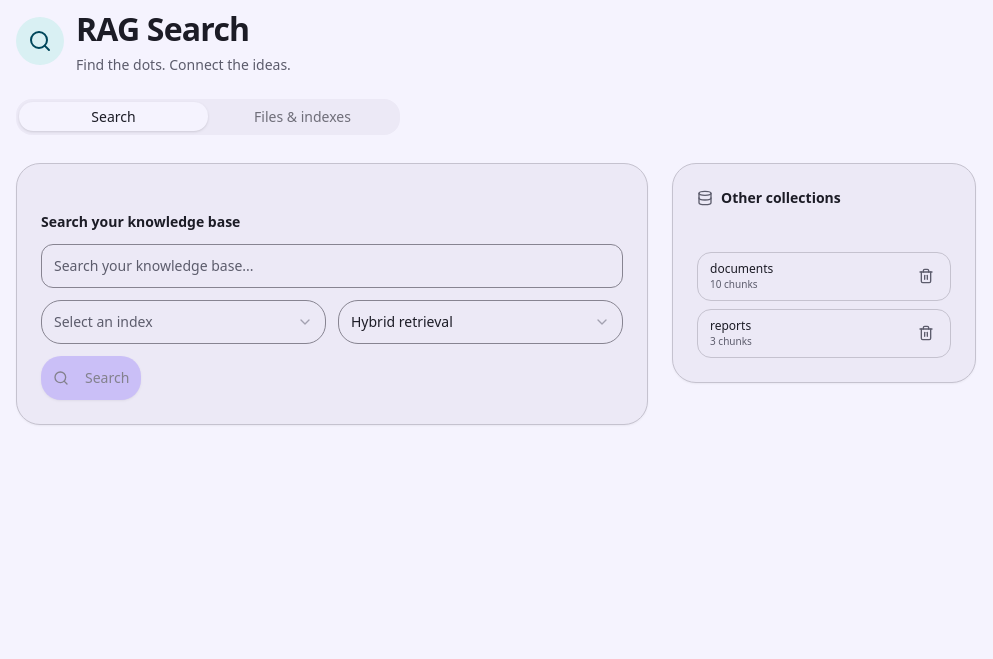
Scenario: RAG Page › uses the selected retrieval profile and labels RRF scores as rankings
Click the dropdown named "Search index": (103, 321) left=41, top=300, right=326, bottom=344
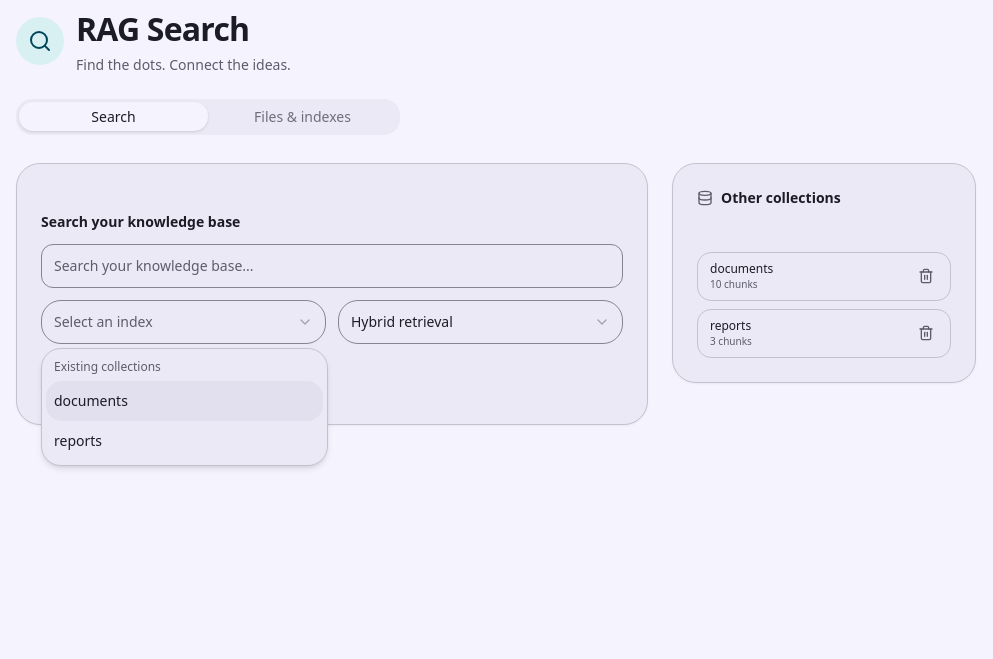
Click the option "documents": (91, 400) left=46, top=381, right=323, bottom=421
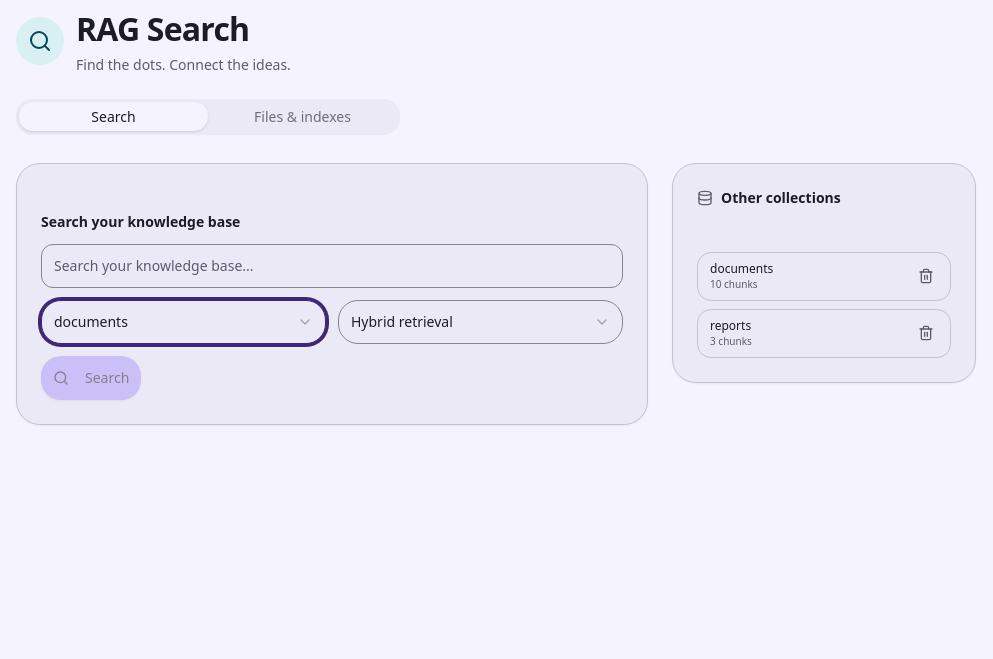
Click the dropdown named "Retrieval profile": (402, 321) left=338, top=300, right=623, bottom=344
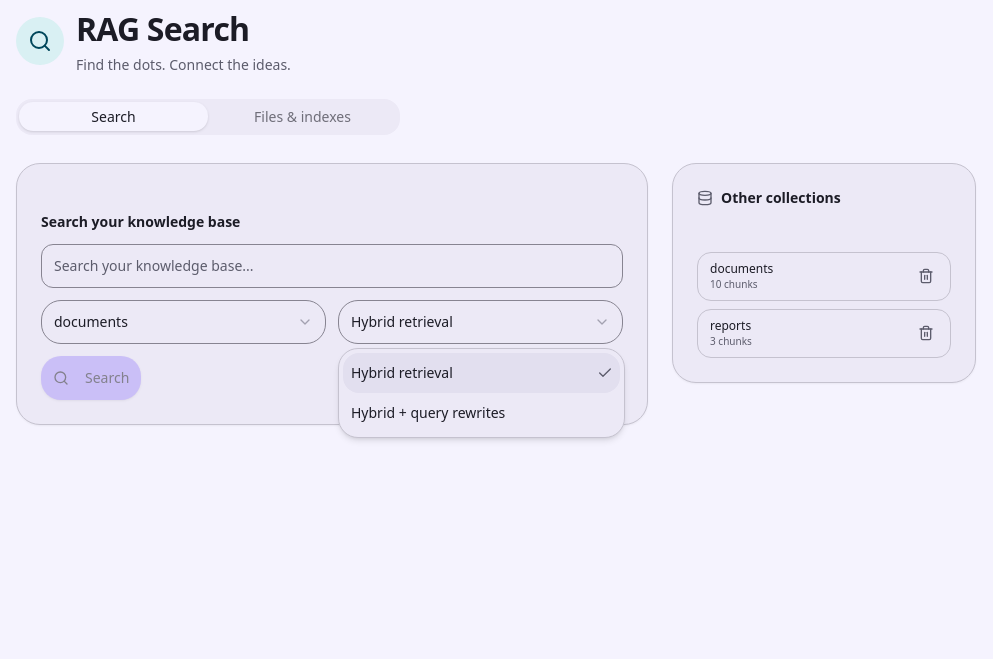
Click the option "Hybrid + query rewrites": (428, 412) left=351, top=403, right=505, bottom=422
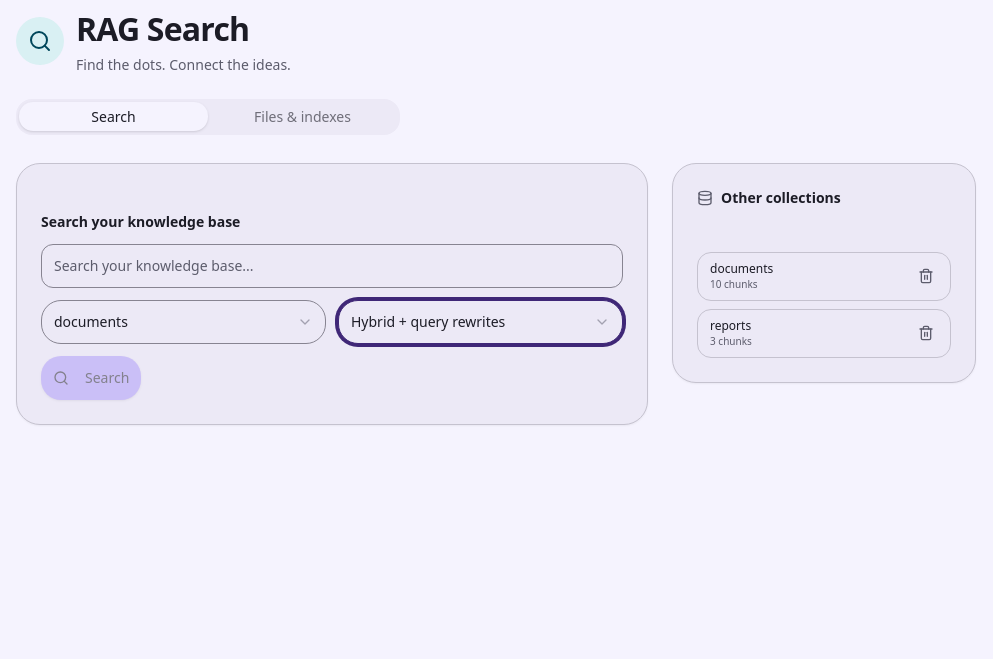
In the field with placeholder "Search your knowledge base...": (332, 266) left=41, top=244, right=623, bottom=288, type "revenue"
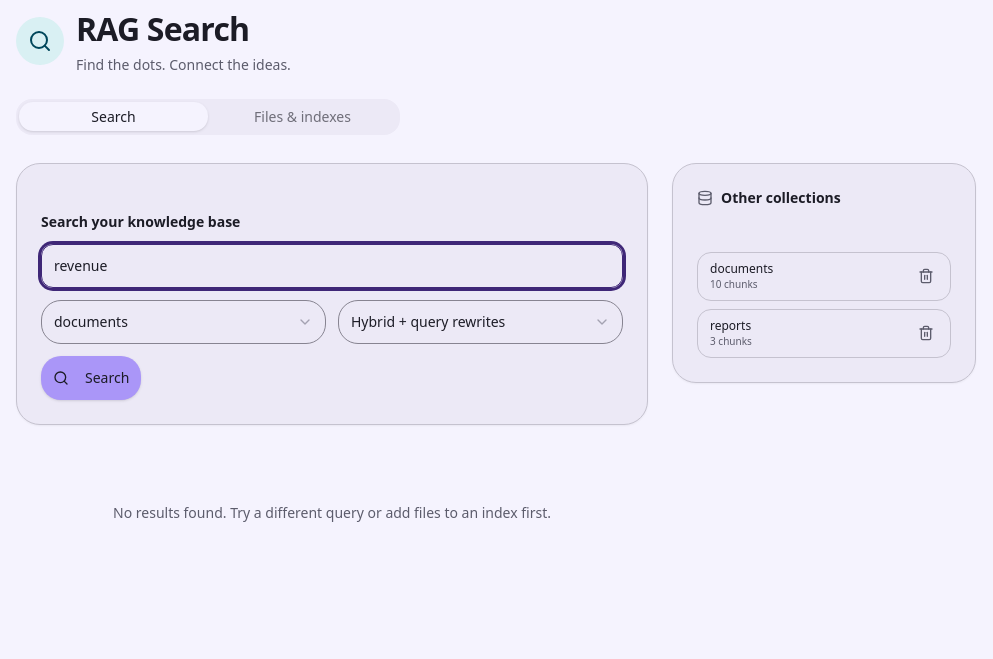
Click the button "Search": (91, 378) left=41, top=356, right=141, bottom=400
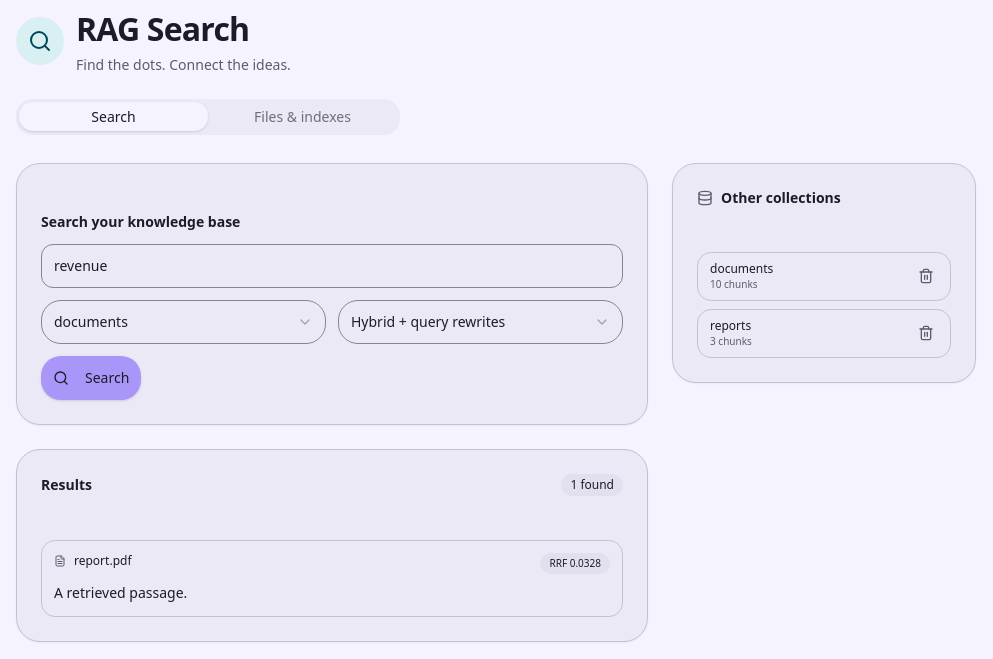
Check: the text "RRF 0.0328" is shown, box left=540, top=553, right=610, bottom=574
